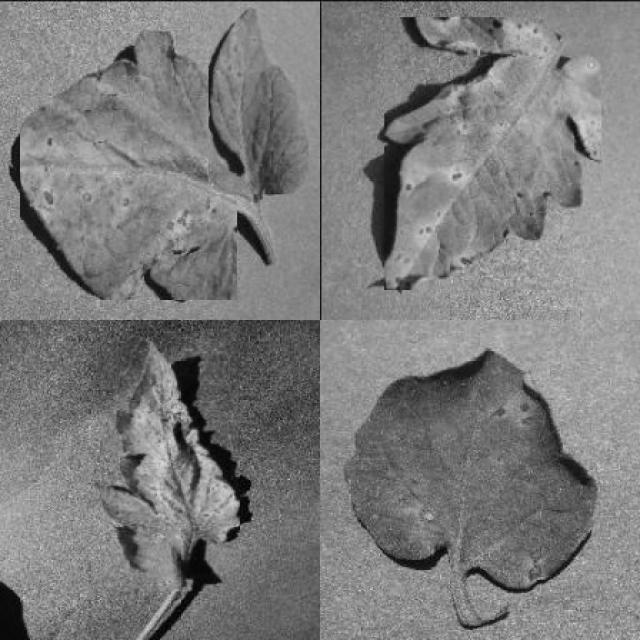Septoria: (346, 348, 600, 589), (384, 17, 602, 290), (20, 31, 237, 300), (100, 338, 240, 592), (208, 8, 308, 195)
